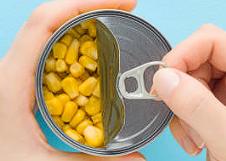Danificado: (30, 14, 183, 157)
